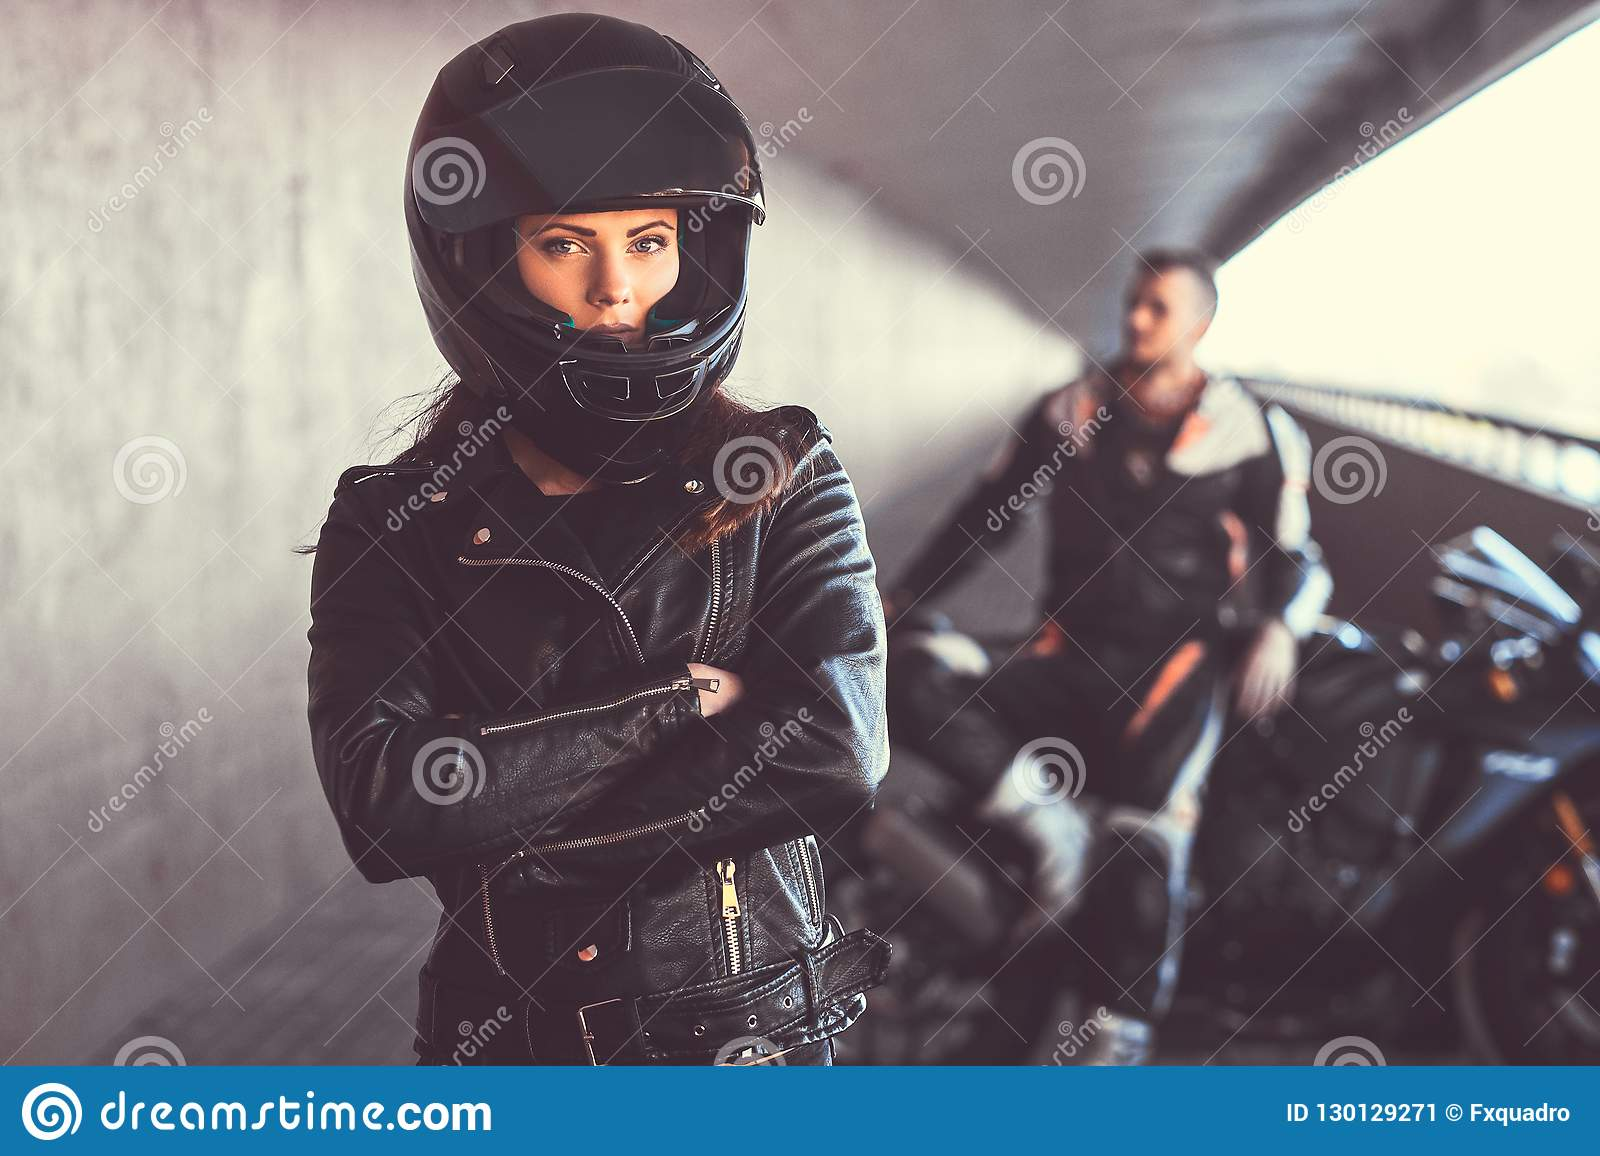helmet: (384, 17, 783, 425)
